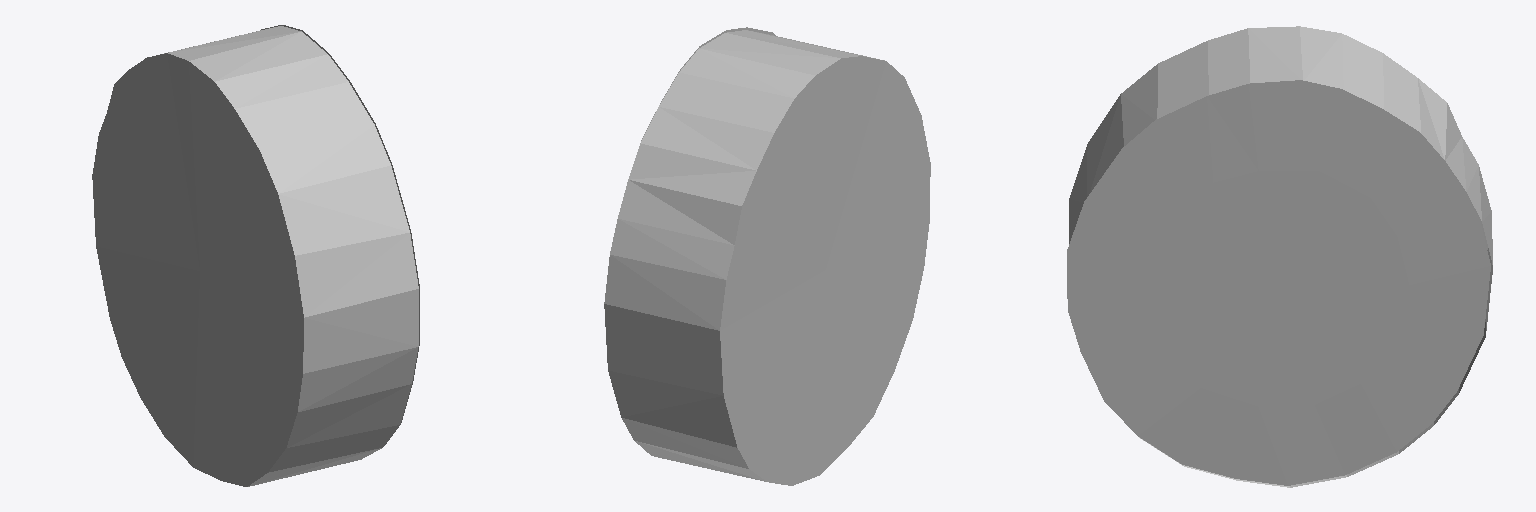
Rendered from wheel1.obj.
3 renders of one model, left to right at view 1: azimuth 30°, elevation 25°; view 2: azimuth 150°, elevation 25°; view 3: azimuth 270°, elevation 25°, orthographic.
Size of the model in its own units: 5.8 by 19.54 by 18.51.